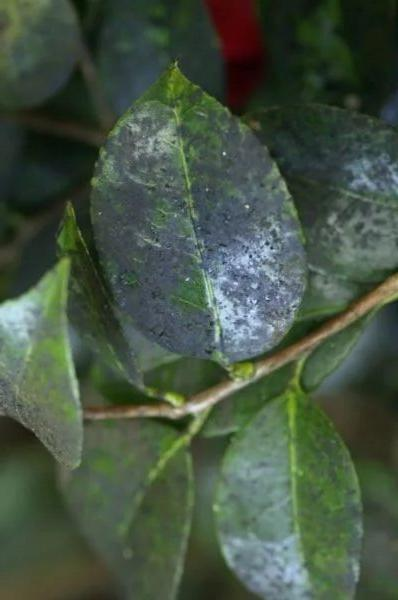soot dew: (91, 67, 305, 364), (246, 104, 397, 317), (214, 387, 361, 599), (61, 420, 193, 599), (0, 260, 82, 467)
